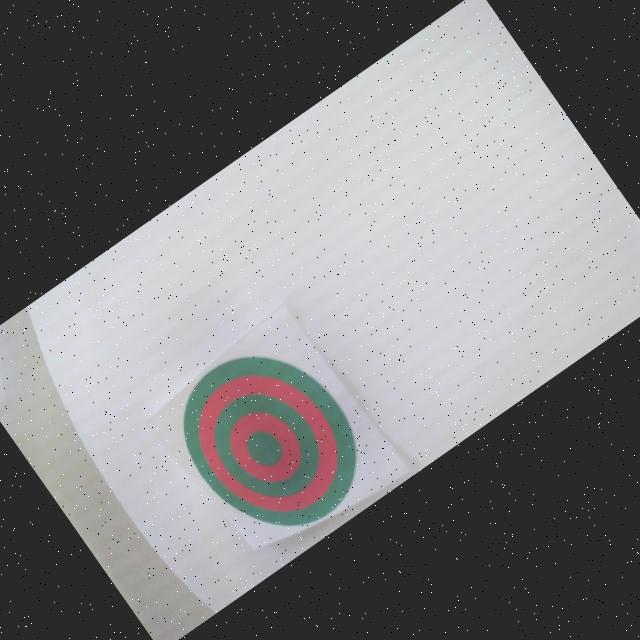COGNITIVE: (154, 320, 386, 561)
